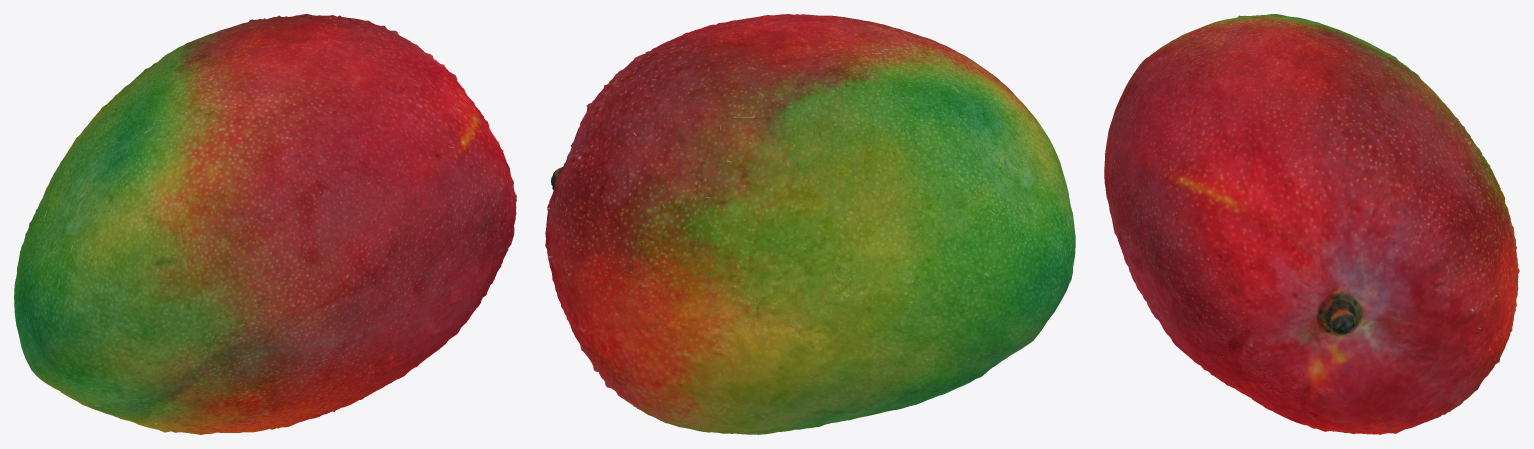
Rendered from mango-v1.glb.
3 views of the same model, side by side, from view 1: azimuth 30°, elevation 25°; view 2: azimuth 150°, elevation 25°; view 3: azimuth 270°, elevation 25° (orthographic). The views are drawn at different scales.
Parts seen in each view (by area): view 1: mango; view 2: mango; view 3: mango.
Part boxes in pixels (bbox=[...]): mango: bbox=[14, 14, 516, 434]; mango: bbox=[545, 14, 1075, 434]; mango: bbox=[1104, 14, 1519, 434].
Bounding box in the file's own units: 6.94 × 5.2 × 5.51.
Materials: 1 (1 with a texture image).
